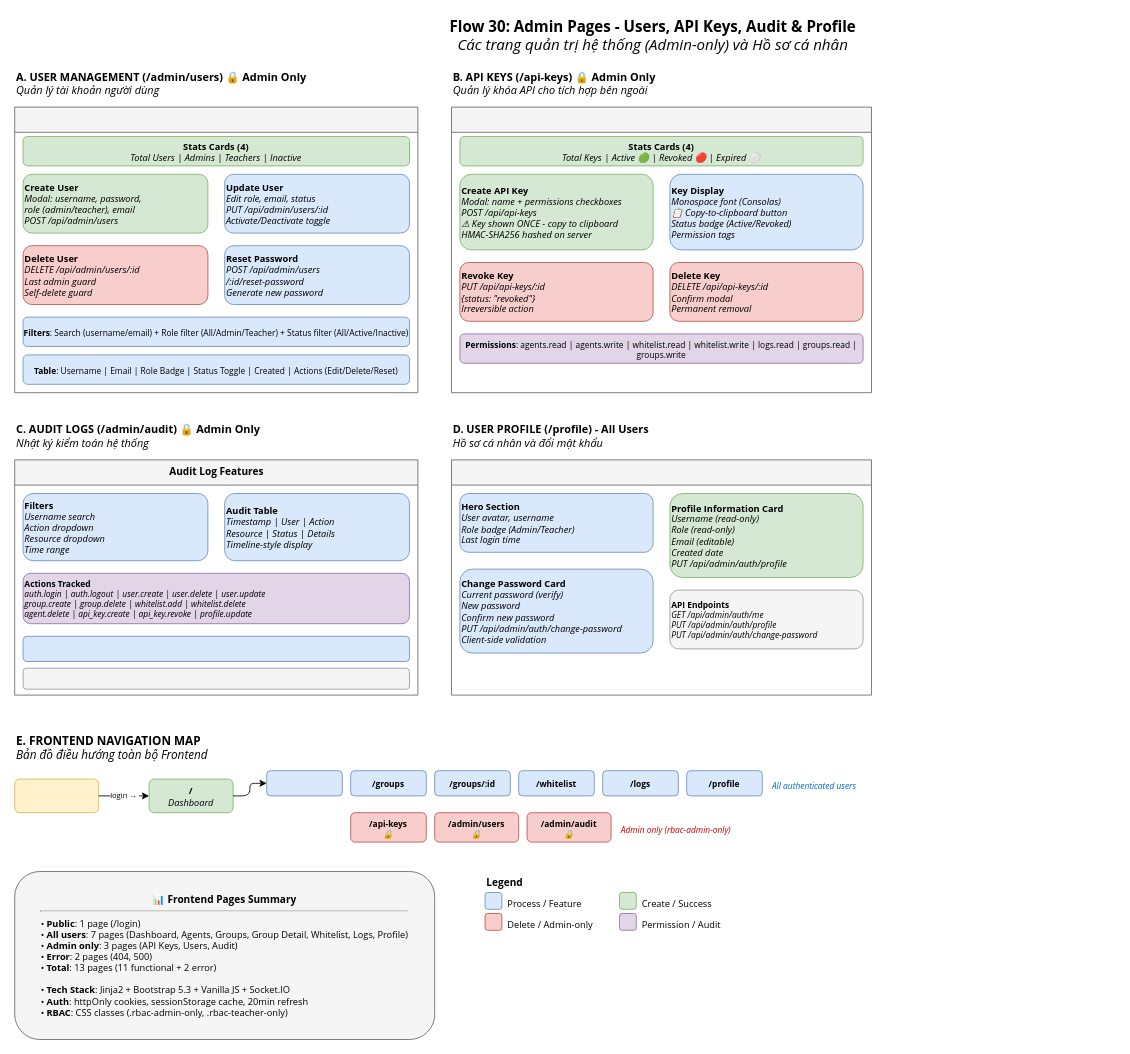
Some shapes in this 1130 by 1054 pixel diagram are drawn without their labels. The shapes that lost their labels are listed below. From the top down, each one's box as (x1, y1, x2, y2) in pixels, then its label:
(14, 106, 418, 393): User Management Features
(451, 106, 872, 393): API Key Management Features
(451, 459, 872, 695): Profile Page Features
(22, 635, 410, 662): Resource Types : Auth | Users | Groups | Whitelist | Agents | Profile
(22, 667, 410, 689): API : GET /api/audit (filters) | POST /api/audit/export (CSV/JSON)
(14, 778, 99, 813): /login Public
(266, 770, 342, 796): /agents
